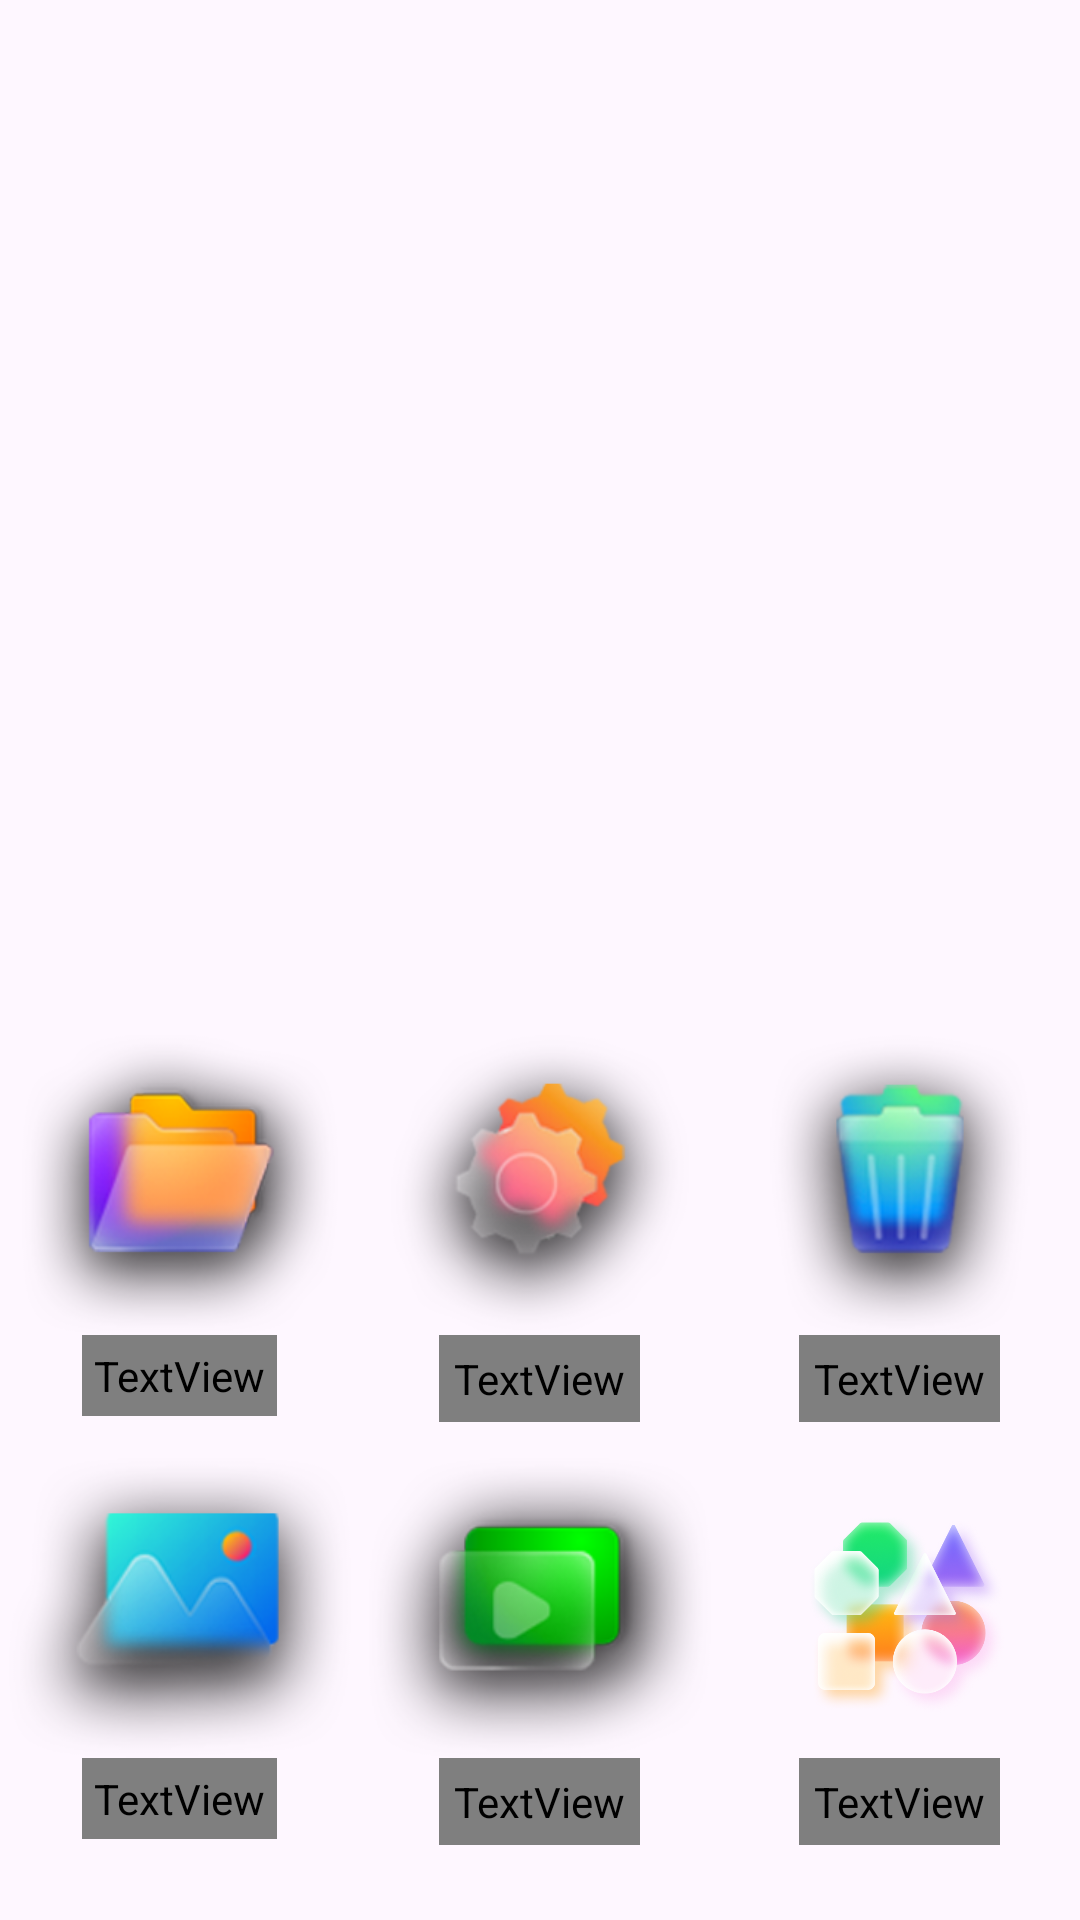

Screen size 1080px x 1920px. Icon name, then its center in pixels as (x,y):
photo: (184,1607)
setting: (540,1185)
trash: (900,1186)
video: (540,1608)
